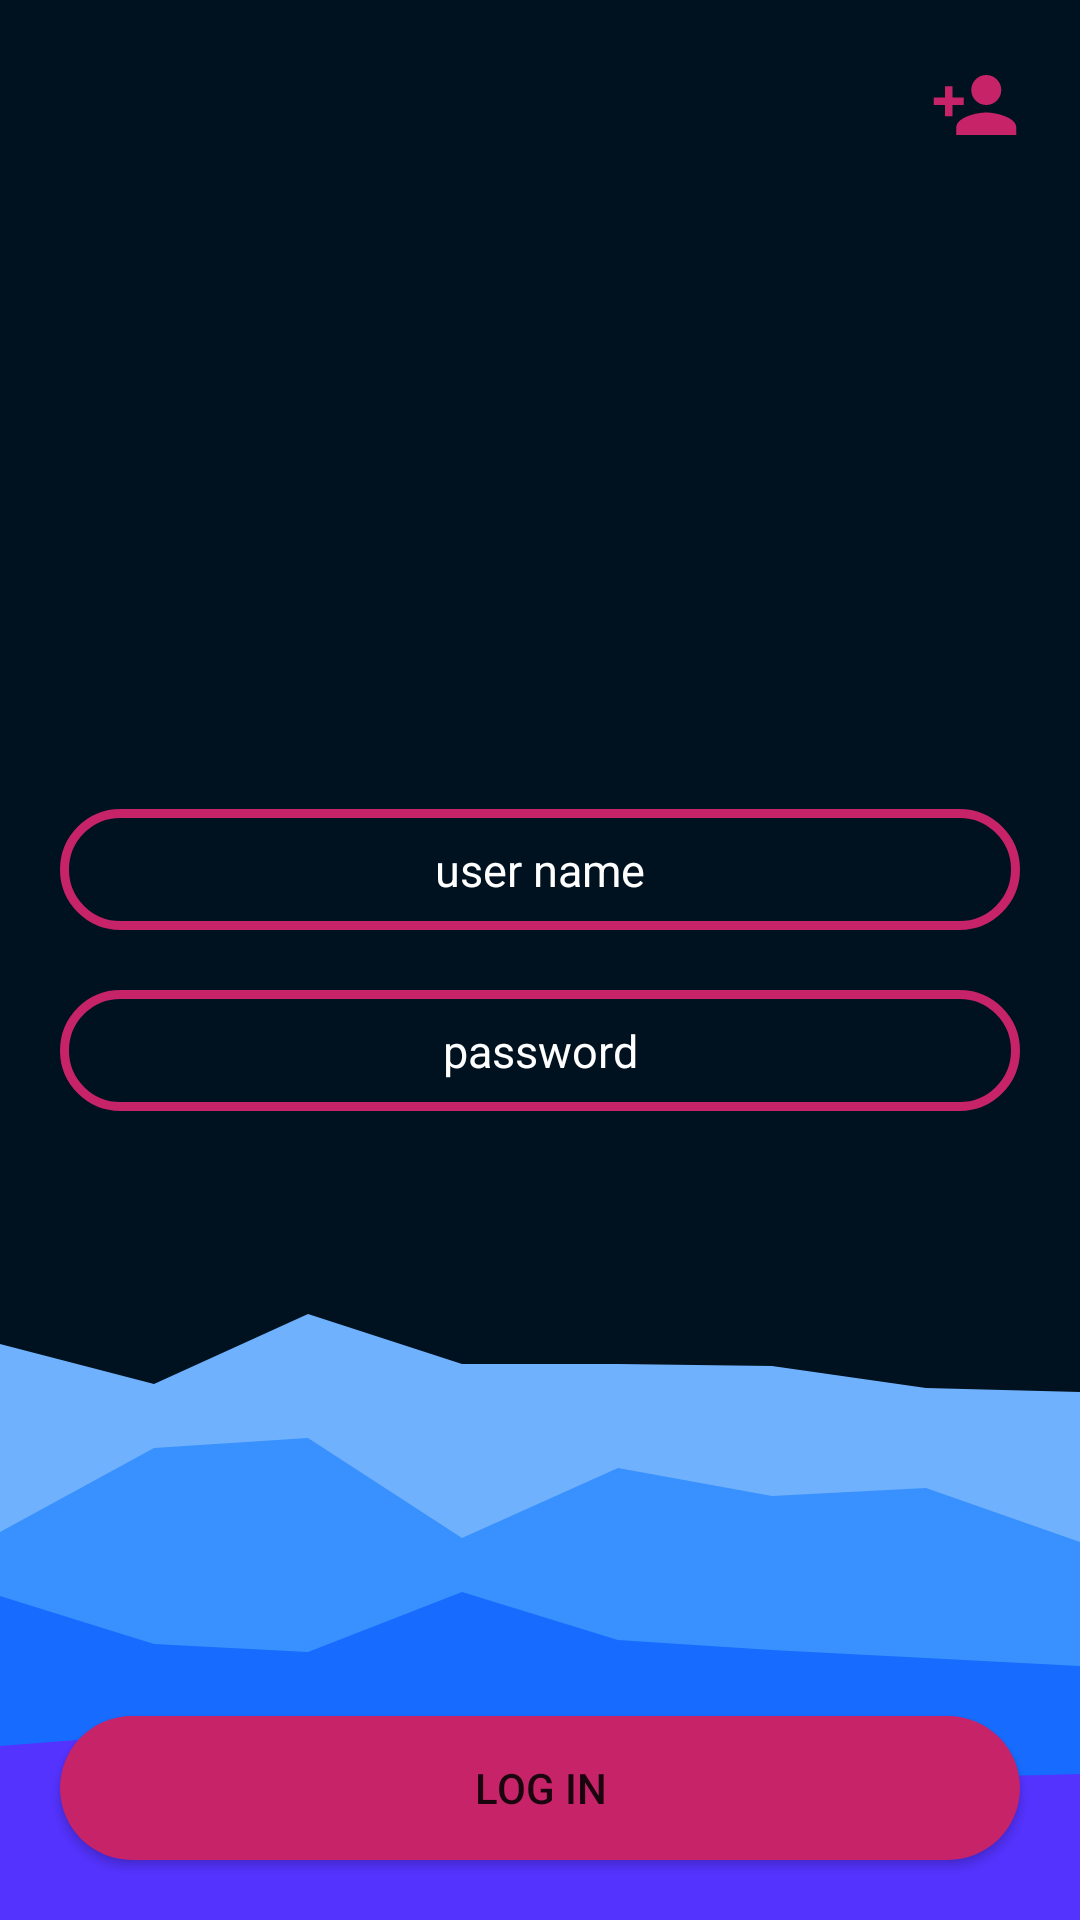

Icon click points for this 1080×1920 phone screenshot, format [x,y]:
register user: [975,105]
